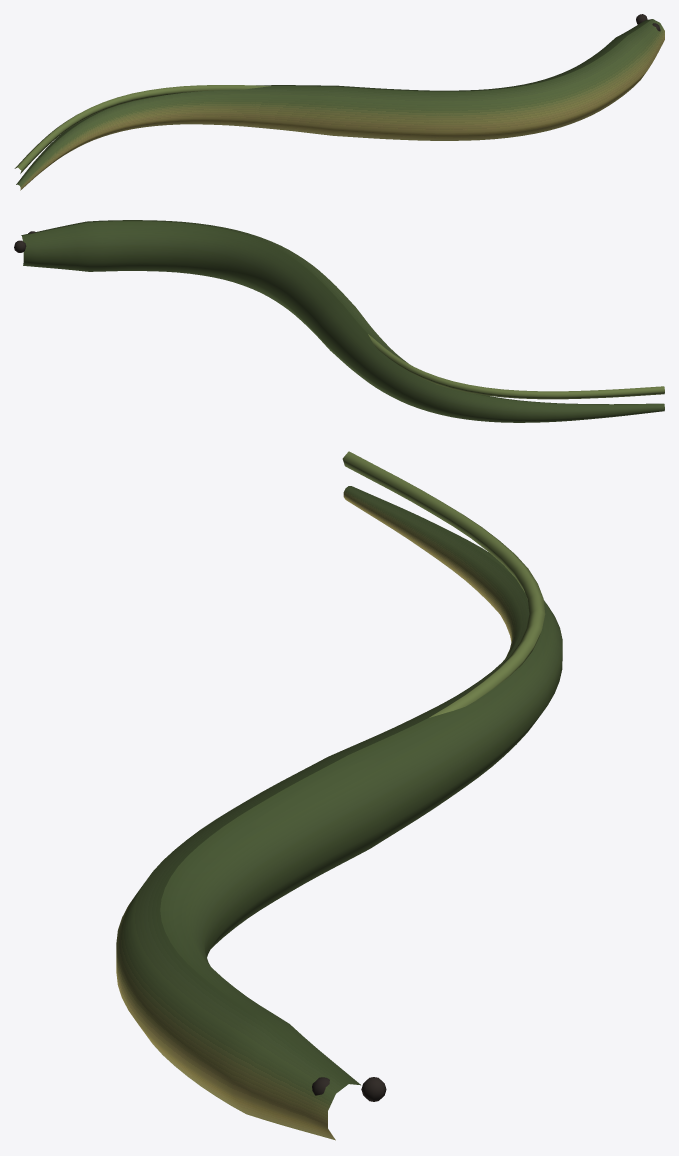
Rendered from eel.glb.
3 views of the same model, one above another, from view 1: azimuth 30°, elevation 25°; view 2: azimuth 150°, elevation 25°; view 3: azimuth 270°, elevation 25° (orthographic). The views are drawn at different scales.
Visible parts, largest first — view 1: eel; view 2: eel; view 3: eel.
Boxes of the visible parts, x1,y1,x2,y2 form: eel: (14,14,664,190); eel: (14,220,664,422); eel: (116,451,562,1140).
Size of the model in its own units: 0.7101 by 0.0506 by 0.213.
Materials: 3 (1 with a texture image).
